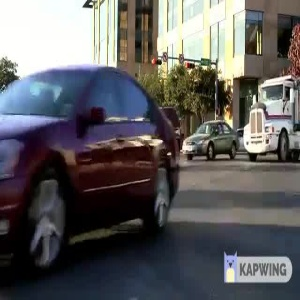car: (1, 70, 171, 244), (181, 118, 240, 161)
semi: (245, 73, 300, 160)
